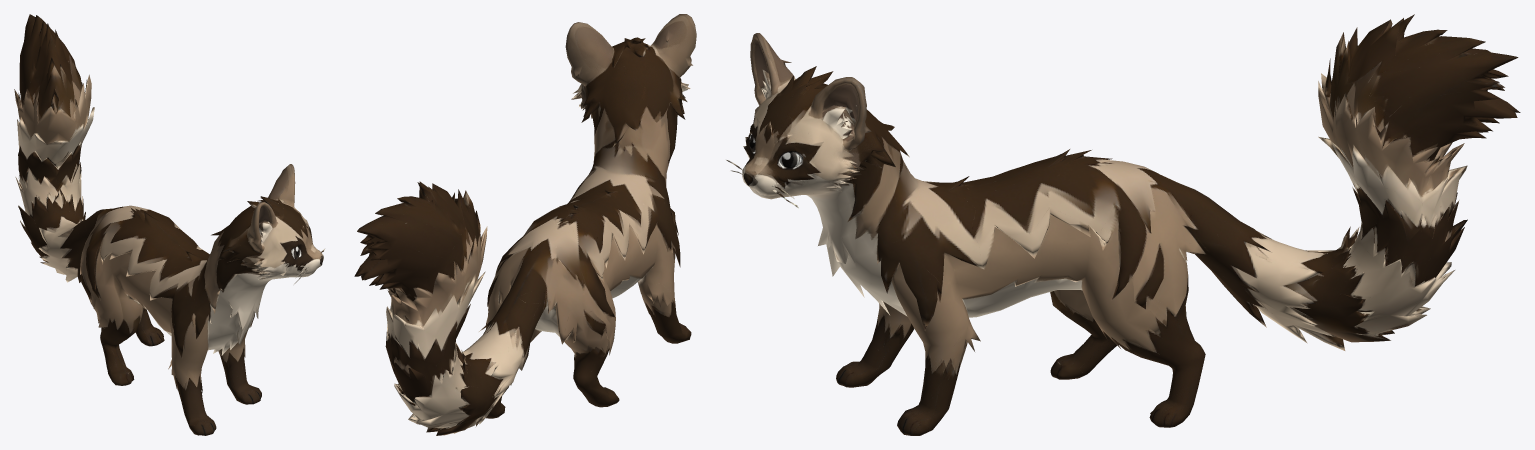
The model's file is Pokemon normal 1_2.glb.
3 renders of one model, left to right at view 1: azimuth 30°, elevation 25°; view 2: azimuth 150°, elevation 25°; view 3: azimuth 270°, elevation 25°, orthographic. The views are drawn at different scales.
Size of the model in its own units: 0.2681 by 0.5195 by 0.9565.
1 material, 1 textured.
